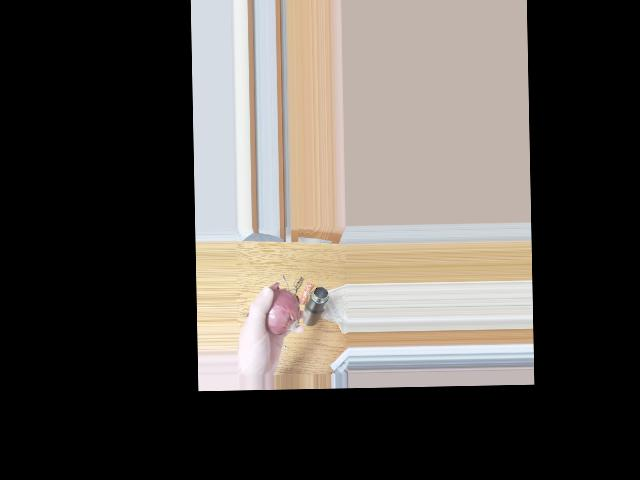onion: (259, 293, 299, 336)
